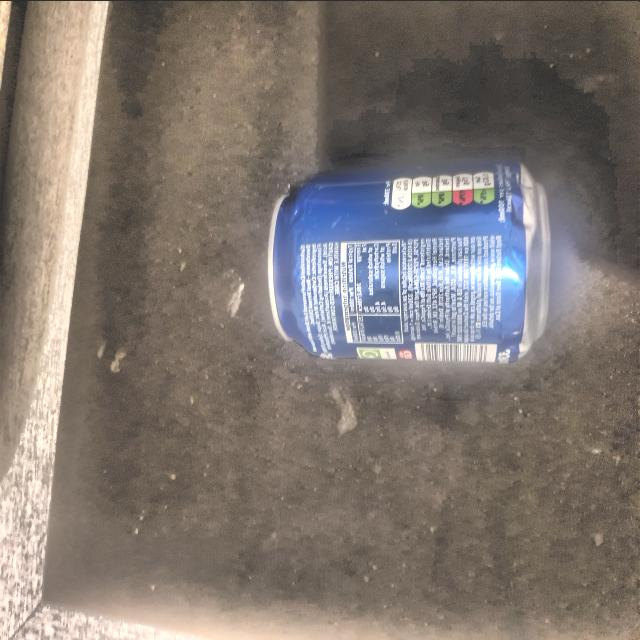pepsi-can: (273, 160, 562, 367)
